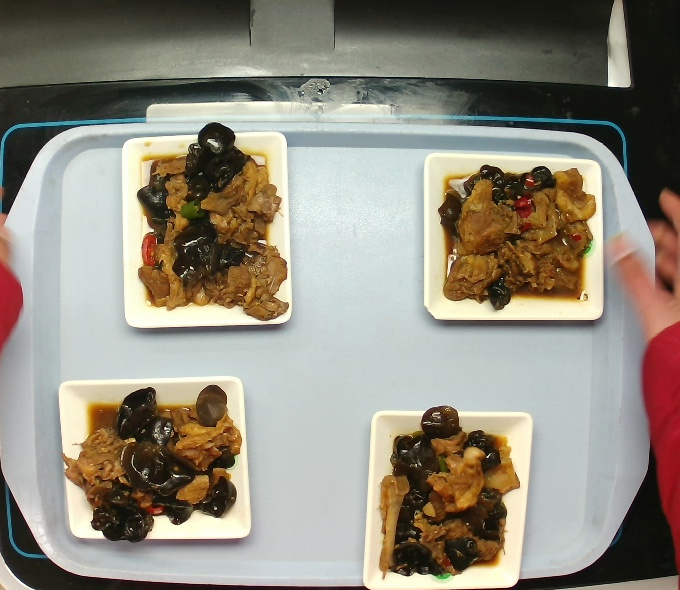wcq-MuErYaRou: (119, 109, 304, 336), (59, 381, 247, 543), (369, 414, 521, 572), (444, 157, 589, 319)
